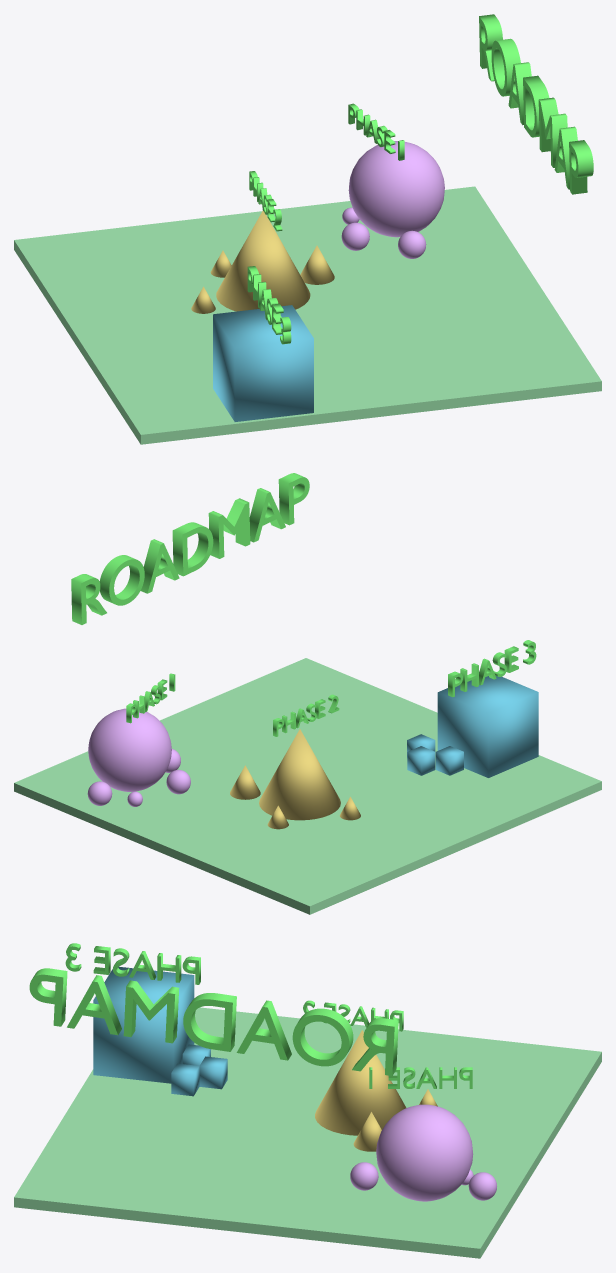
File: roadmap.glb
The picture shows the model from 3 angles, top to bottom: view 1: azimuth 30°, elevation 25°; view 2: azimuth 150°, elevation 25°; view 3: azimuth 270°, elevation 25°; orthographic projection. The views are drawn at different scales.
Parts seen in each view (by area): view 1: Cube.001, Cube, Text, Sphere.003, Cone, Text.003, text.001, Cone.002, Text.002, Sphere.001, Sphere; view 2: Cube.001, Text, Cube, Sphere.003, Cone, Text.003, Text.002, text.001, Cube.004, Cube.003, Cone.002; view 3: Cube.001, Text, Sphere.003, Cube, Cone, Text.003, text.001, Cube.003, Cube.002, Text.002, Cone.002, Sphere (+2 smaller).
Boxes of the visible parts, x1=… form: Cube.001: x1=14, y1=186, x2=601, y2=444; Cube: x1=213, y1=305, x2=313, y2=421; Text: x1=479, y1=14, x2=593, y2=194; Sphere.003: x1=348, y1=141, x2=444, y2=237; Cone: x1=216, y1=211, x2=310, y2=311; Text.003: x1=247, y1=266, x2=291, y2=344; text.001: x1=348, y1=103, x2=404, y2=160; Cone.002: x1=300, y1=245, x2=334, y2=284; Text.002: x1=249, y1=171, x2=282, y2=231; Sphere.001: x1=341, y1=222, x2=369, y2=250; Sphere: x1=398, y1=230, x2=426, y2=258; Cube.001: x1=14, y1=658, x2=601, y2=914; Text: x1=71, y1=473, x2=309, y2=624; Cube: x1=437, y1=676, x2=538, y2=777; Sphere.003: x1=88, y1=708, x2=171, y2=791; Cone: x1=259, y1=729, x2=340, y2=820; Text.003: x1=448, y1=640, x2=536, y2=697; Text.002: x1=273, y1=694, x2=339, y2=736; text.001: x1=126, y1=673, x2=175, y2=723; Cube.004: x1=435, y1=746, x2=463, y2=775; Cube.003: x1=407, y1=746, x2=435, y2=775; Cone.002: x1=230, y1=765, x2=260, y2=799; Cube.001: x1=14, y1=1007, x2=601, y2=1258; Text: x1=29, y1=968, x2=398, y2=1075; Sphere.003: x1=376, y1=1104, x2=473, y2=1201; Cube: x1=93, y1=966, x2=194, y2=1083; Cone: x1=315, y1=1030, x2=406, y2=1135; Text.003: x1=65, y1=943, x2=200, y2=984; text.001: x1=369, y1=1067, x2=472, y2=1088; Cube.003: x1=199, y1=1056, x2=227, y2=1089; Cube.002: x1=171, y1=1063, x2=199, y2=1096; Text.002: x1=303, y1=1000, x2=403, y2=1031; Cone.002: x1=353, y1=1112, x2=381, y2=1151; Sphere: x1=350, y1=1162, x2=378, y2=1190.
Bounding box in the file's own units: 51.16 × 22.45 × 51.16.
